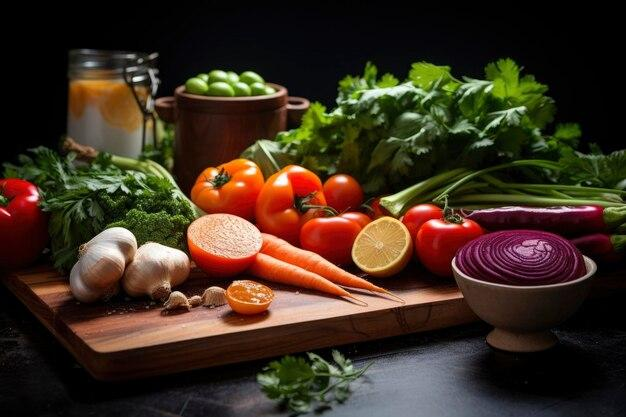bell pepper: (182, 147, 373, 231)
carrot: (249, 239, 382, 315)
garlic: (47, 226, 208, 324)
spinacch: (345, 59, 583, 199)
tomato: (407, 199, 483, 266)
